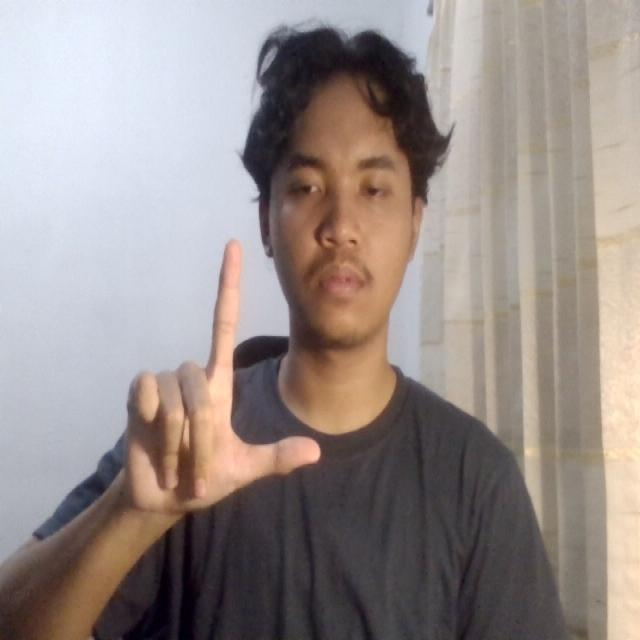I: (97, 228, 335, 539)
